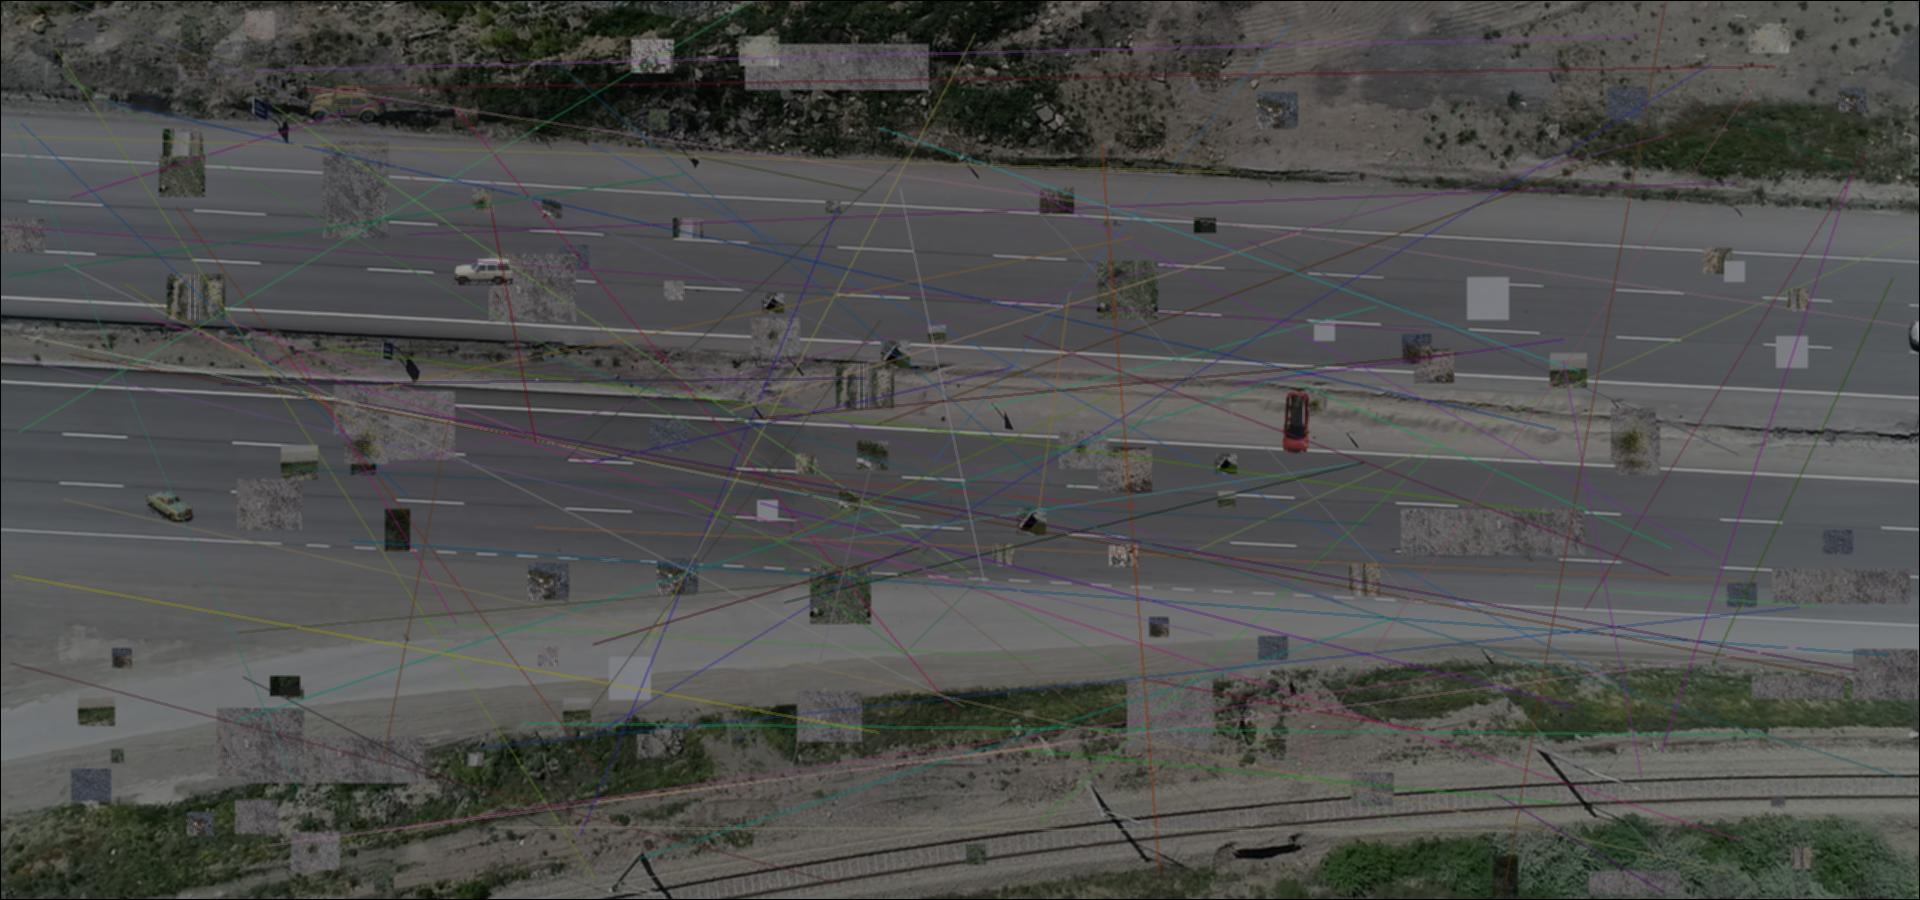arac: (301, 83, 389, 125), (1280, 391, 1311, 456), (453, 257, 513, 285), (146, 491, 196, 522)
